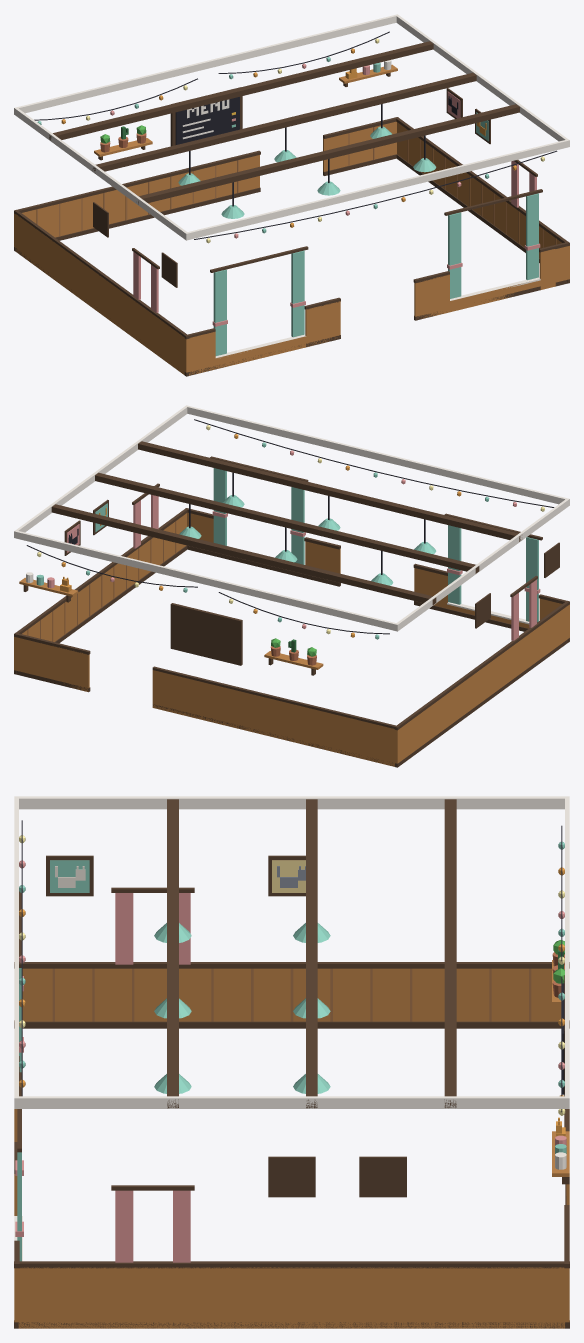
Rendered from CatCafe_Plot_Interior.glb.
3 renders of one model, top to bottom at view 1: azimuth 30°, elevation 25°; view 2: azimuth 150°, elevation 25°; view 3: azimuth 270°, elevation 25°, orthographic. The views are drawn at different scales.
Parts seen in each view (by area): view 1: CatCafe_Plot_Interior, CatCafe_Plot_Interior_StringLights_Bulbs; view 2: CatCafe_Plot_Interior, CatCafe_Plot_Interior_StringLights_Bulbs; view 3: CatCafe_Plot_Interior, CatCafe_Plot_Interior_StringLights_Bulbs.
Part boxes in pixels (box(x1,y1,x2,y2)): CatCafe_Plot_Interior: box(14, 14, 569, 376); CatCafe_Plot_Interior_StringLights_Bulbs: box(37, 38, 544, 243); CatCafe_Plot_Interior: box(14, 405, 569, 767); CatCafe_Plot_Interior_StringLights_Bulbs: box(37, 425, 544, 639); CatCafe_Plot_Interior: box(14, 796, 569, 1328); CatCafe_Plot_Interior_StringLights_Bulbs: box(19, 835, 565, 1115).
Bounding box in the file's own units: 36.02 × 12.8 × 28.02.
Materials: 1 (1 with a texture image).
